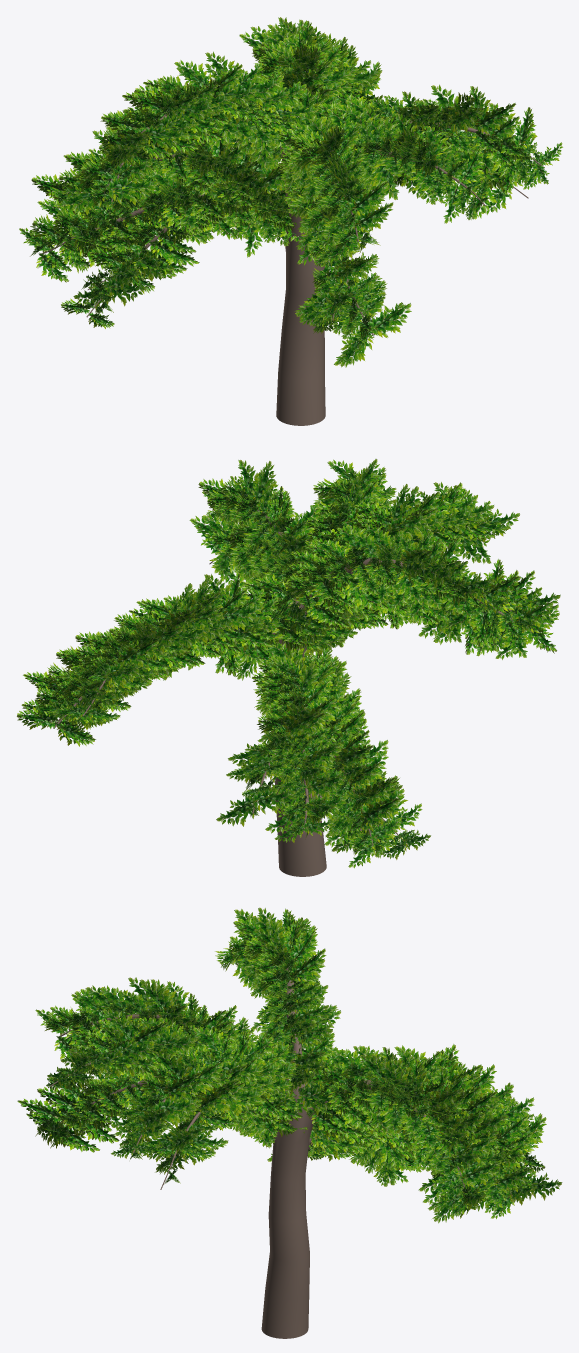
3 renders of one model, top to bottom at view 1: azimuth 30°, elevation 25°; view 2: azimuth 150°, elevation 25°; view 3: azimuth 270°, elevation 25°, orthographic. The views are drawn at different scales.
Parts seen in each view (by area): view 1: tree.007; view 2: tree.007; view 3: tree.007.
Part boxes in pixels (x1,y1,x2,y2): tree.007: [19, 17, 562, 425]; tree.007: [17, 459, 560, 876]; tree.007: [17, 907, 562, 1338].
Bounding box in the file's own units: 2136 × 1714 × 2428.
